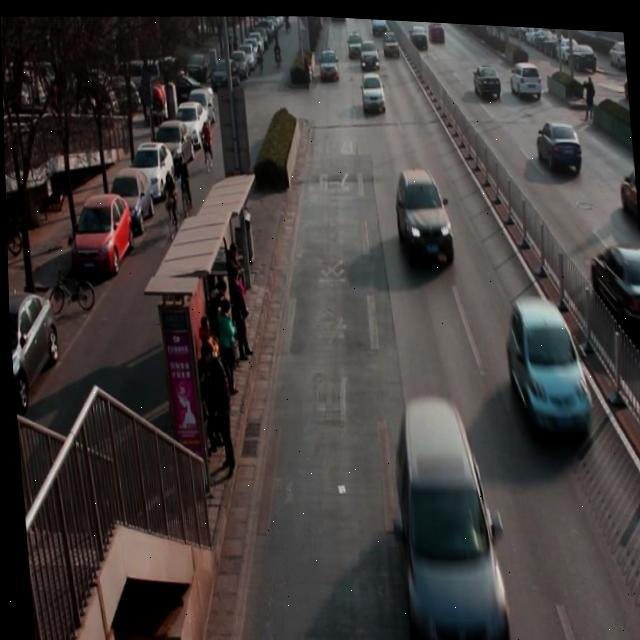car: (383, 402, 508, 640), (501, 293, 594, 443), (392, 167, 454, 264), (598, 238, 640, 334), (535, 116, 584, 176), (510, 59, 544, 100), (471, 61, 502, 102), (359, 72, 387, 113), (622, 157, 639, 223), (319, 47, 341, 82), (358, 38, 380, 73), (345, 29, 364, 60), (382, 29, 400, 59), (409, 22, 427, 51), (429, 18, 446, 42)
